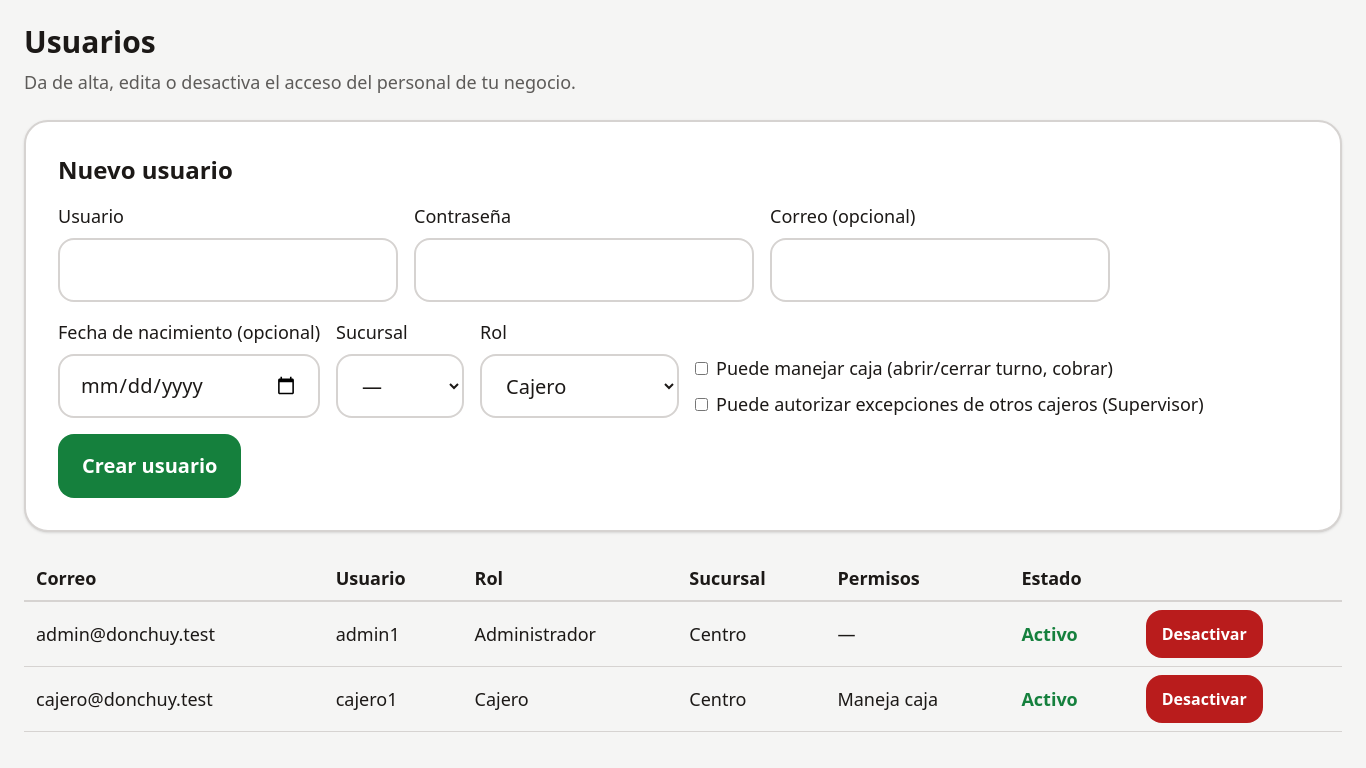
Test: UserManagementScreen › desactiva a un usuario activo
Expected: the text "cajero@donchuy.test" is shown, left=24, top=666, right=324, bottom=732
Click the button "Desactivar" in the row of "cajero@donchuy.test" at (1204, 699), box left=1146, top=675, right=1263, bottom=723
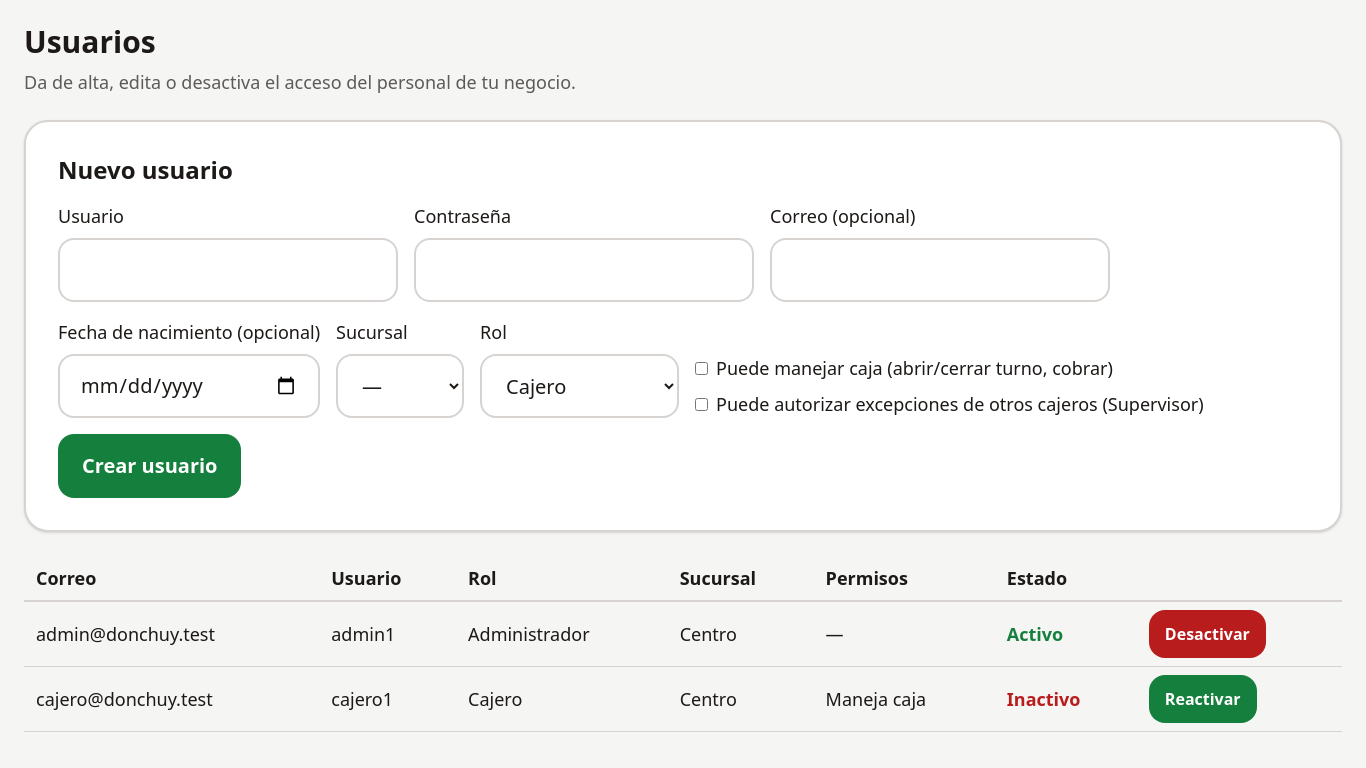
Result: the text "Inactivo" is shown at left=995, top=666, right=1137, bottom=732
